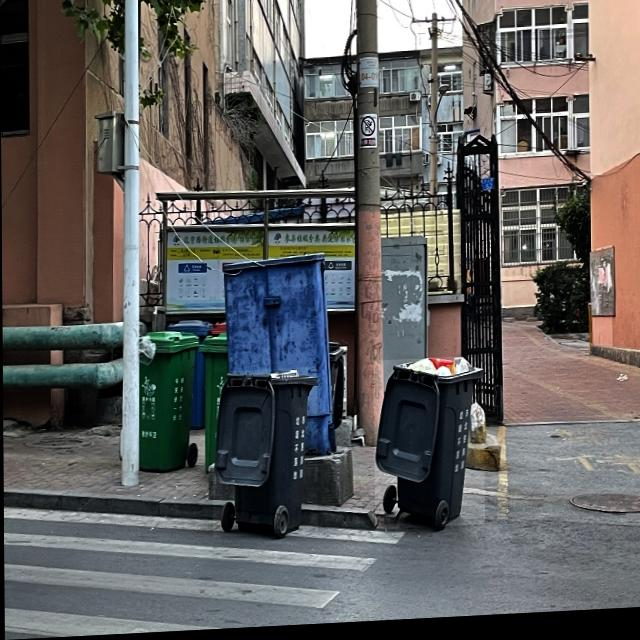garbage_bin: (211, 370, 317, 539), (137, 331, 200, 473), (166, 320, 213, 430), (196, 333, 227, 473)
overflow: (373, 360, 484, 534)
